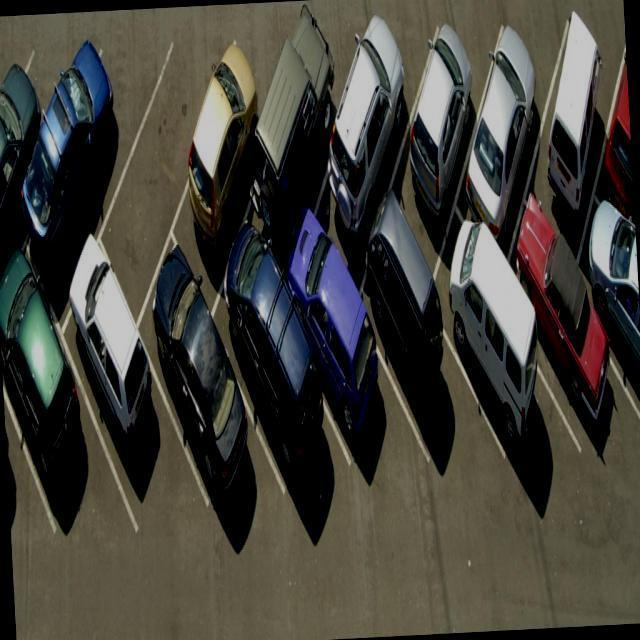space-empty: (96, 64, 212, 268)
space-occupied: (421, 224, 554, 488), (132, 246, 258, 516), (502, 204, 613, 494), (210, 243, 333, 499), (0, 271, 109, 550), (282, 240, 393, 495), (11, 40, 149, 235), (349, 237, 460, 475), (60, 283, 171, 510), (314, 61, 418, 257), (170, 58, 268, 254), (247, 41, 340, 247), (449, 40, 544, 233), (525, 2, 615, 205), (391, 44, 476, 218), (583, 208, 639, 461), (0, 54, 60, 265), (592, 21, 634, 216)
